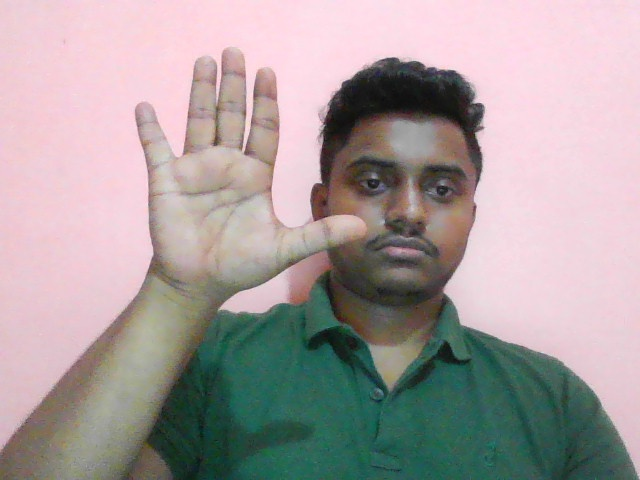Hello: (127, 46, 368, 297)
